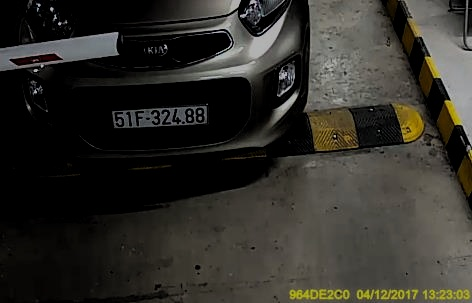plate: (110, 103, 212, 126)
